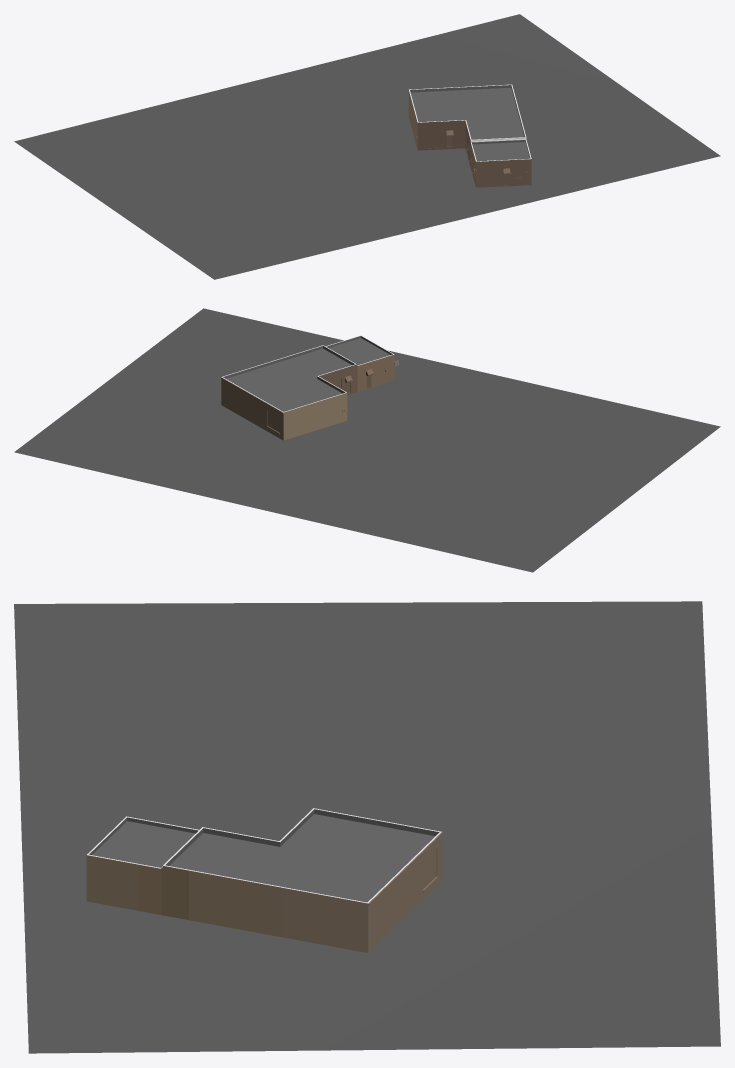
File: reeves-reneedeling.glb
3 renders of one model, top to bottom at view 1: azimuth 30°, elevation 25°; view 2: azimuth 150°, elevation 25°; view 3: azimuth 270°, elevation 25°, orthographic. The views are drawn at different scales.
Parts seen in each view (by area): view 1: LOD0; view 2: LOD0; view 3: LOD0.
Boxes of the visible parts, box(x1,y1,x2,y2) form: LOD0: box(14, 14, 720, 279); LOD0: box(14, 308, 720, 572); LOD0: box(14, 601, 720, 1053).
Size of what is drawn, in the model's own units: 120 by 6.48 by 79.99.
1 material, 1 textured.
